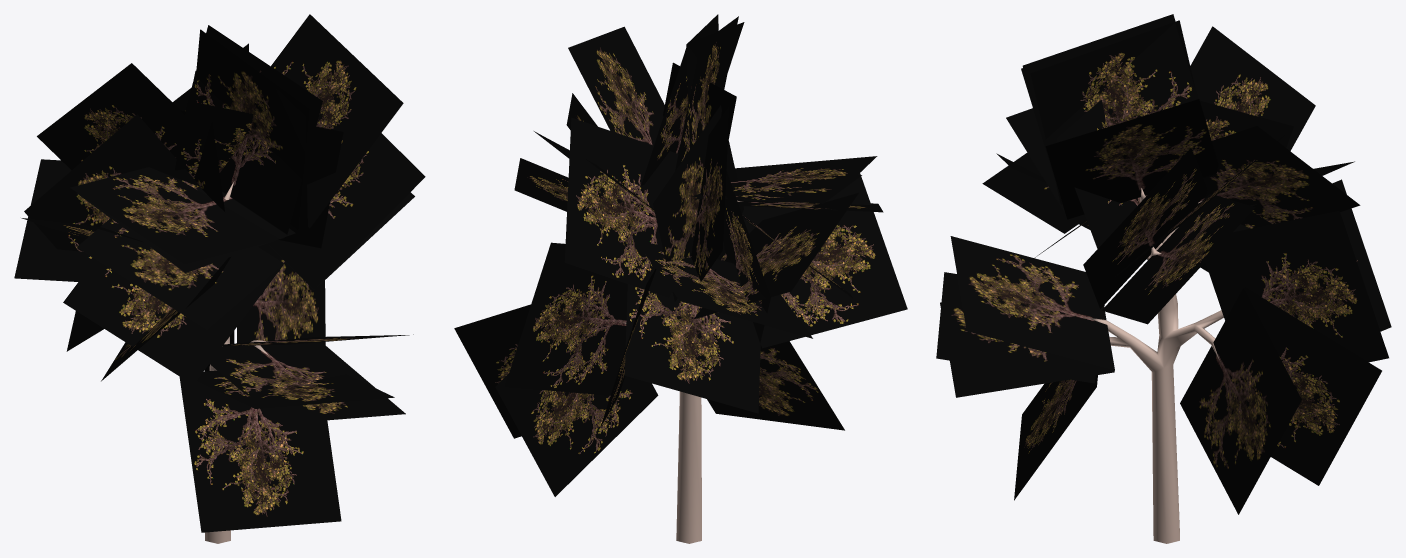
Rendered from tree16.glb.
The picture shows the model from 3 angles, left to right: view 1: azimuth 30°, elevation 25°; view 2: azimuth 150°, elevation 25°; view 3: azimuth 270°, elevation 25°; orthographic projection. The views are drawn at different scales.
Size of the model in its own units: 5.21 by 7.08 by 5.66.
2 materials, 1 textured.
